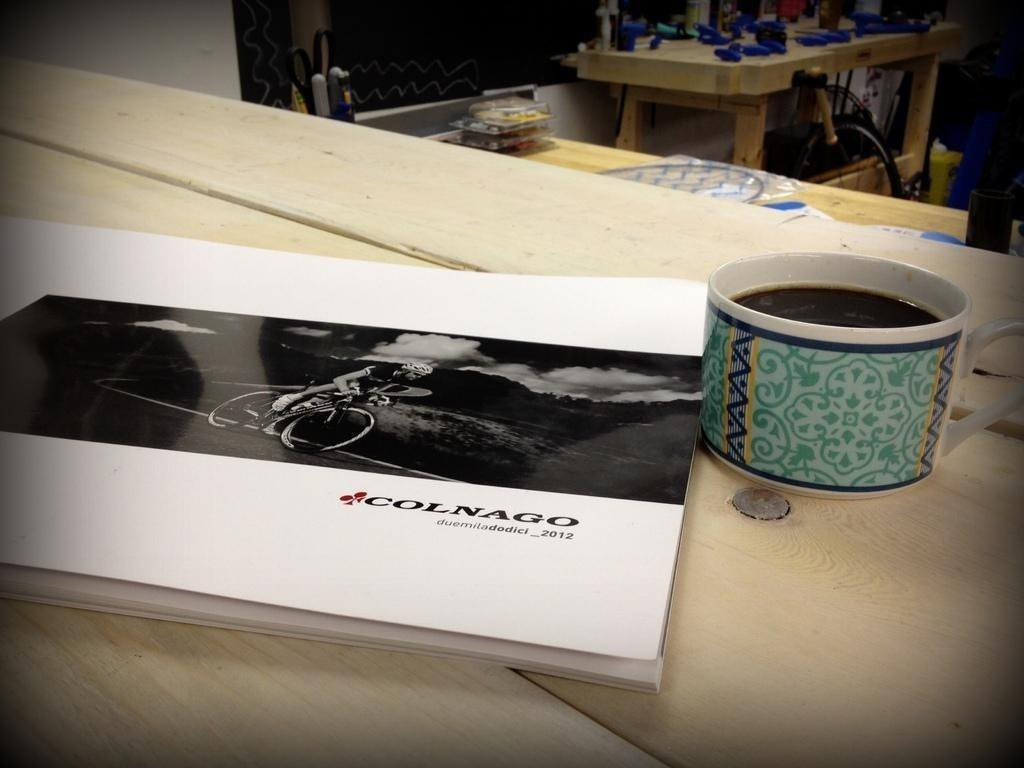cup-handle: (698, 252, 1023, 501)
